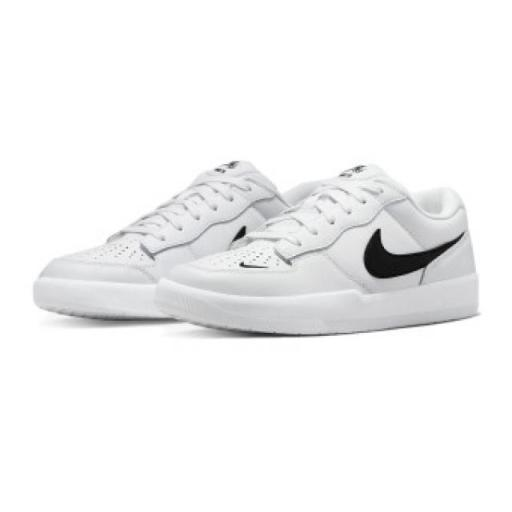Nike: (236, 260, 270, 271)
